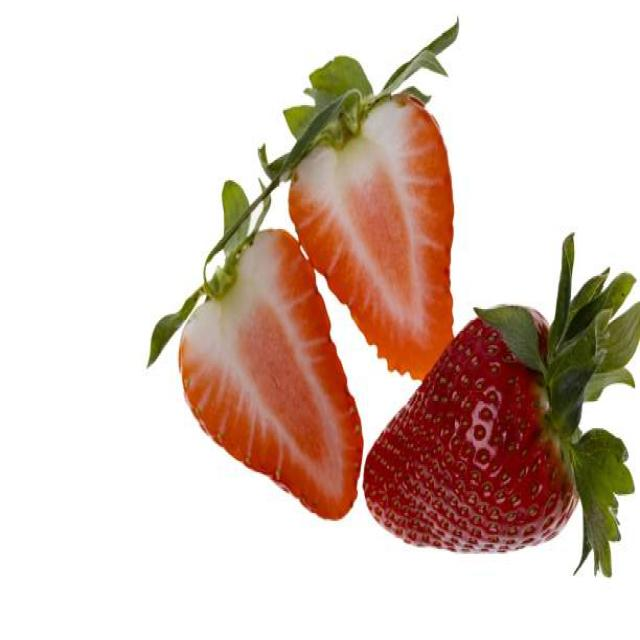Healthy Fruit: (180, 228, 363, 522), (361, 319, 577, 553), (287, 96, 455, 381)
